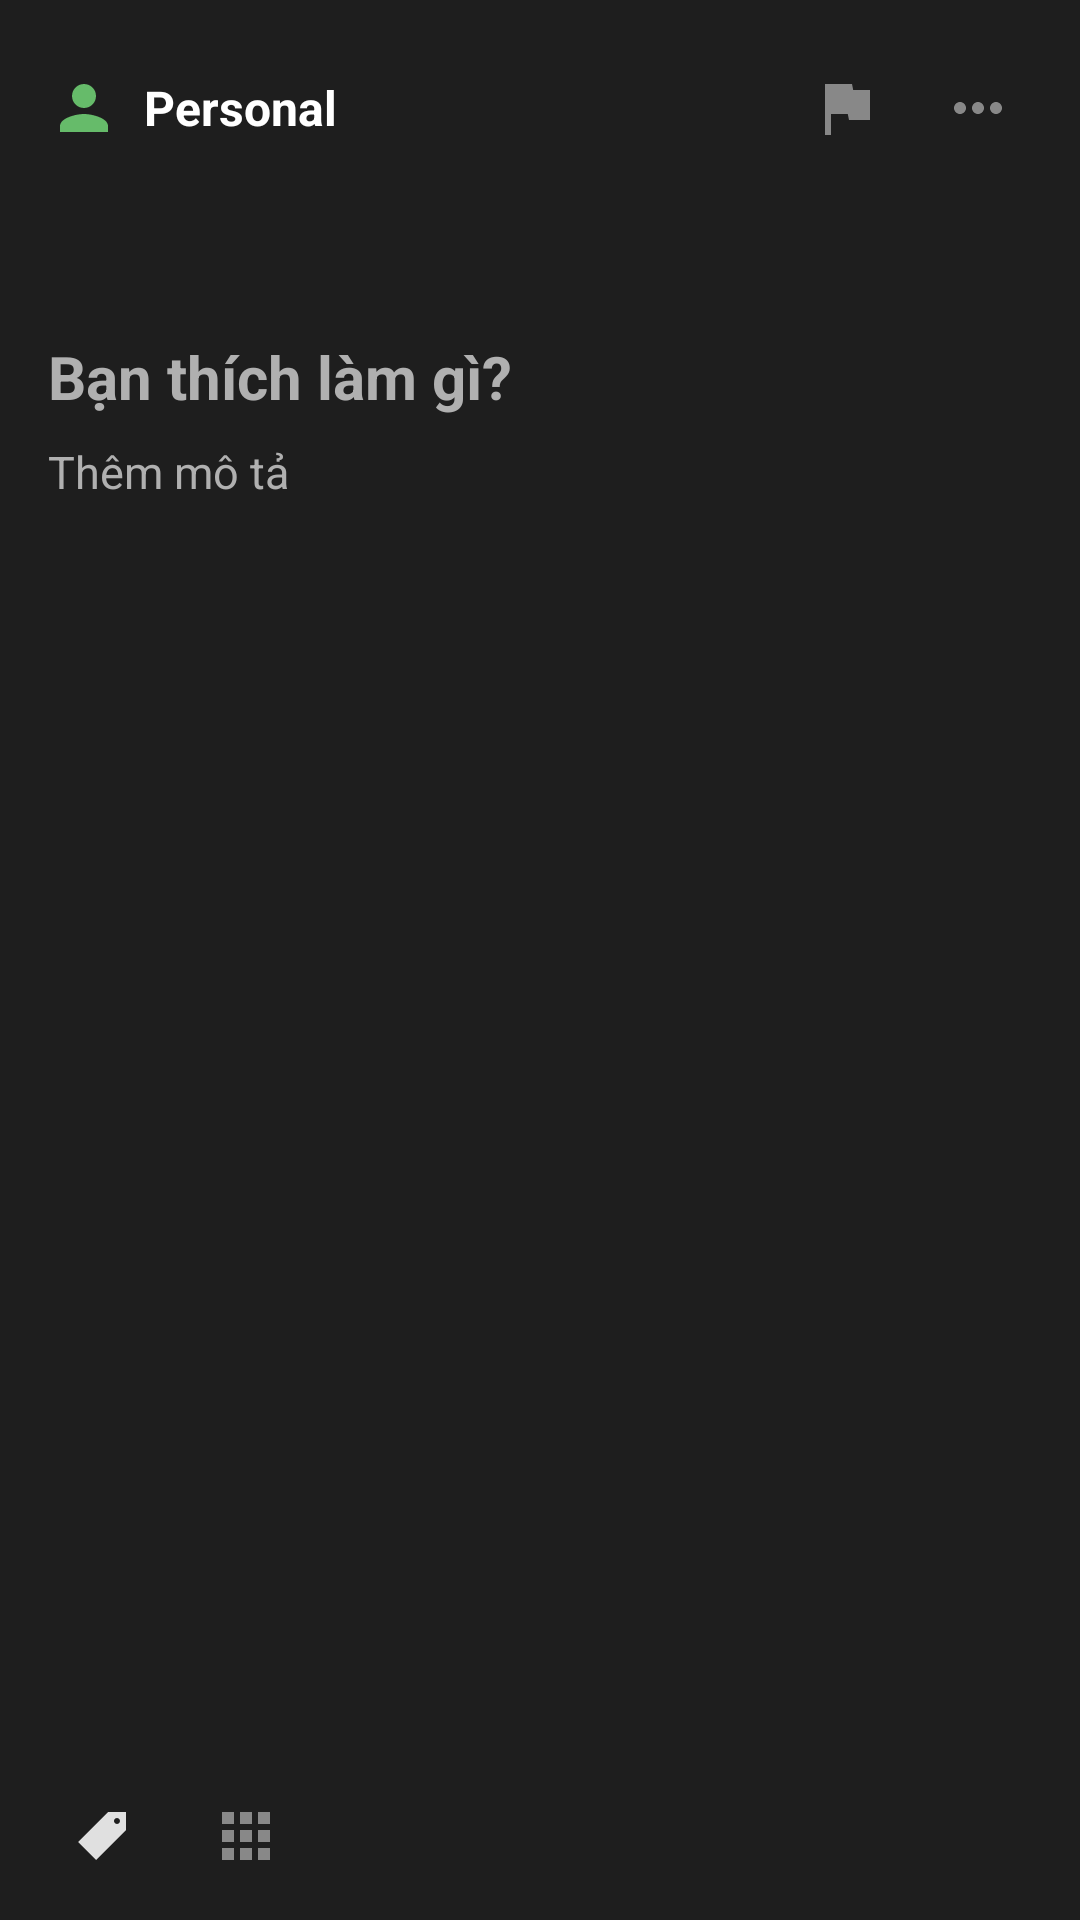

Screen size 1080 x 1920. Icon name, then its box in pixels as (x1, y1, x2, y2):
Flag: (825, 84, 870, 135)
More: (954, 102, 1002, 114)
Tag: (78, 1812, 126, 1860)
